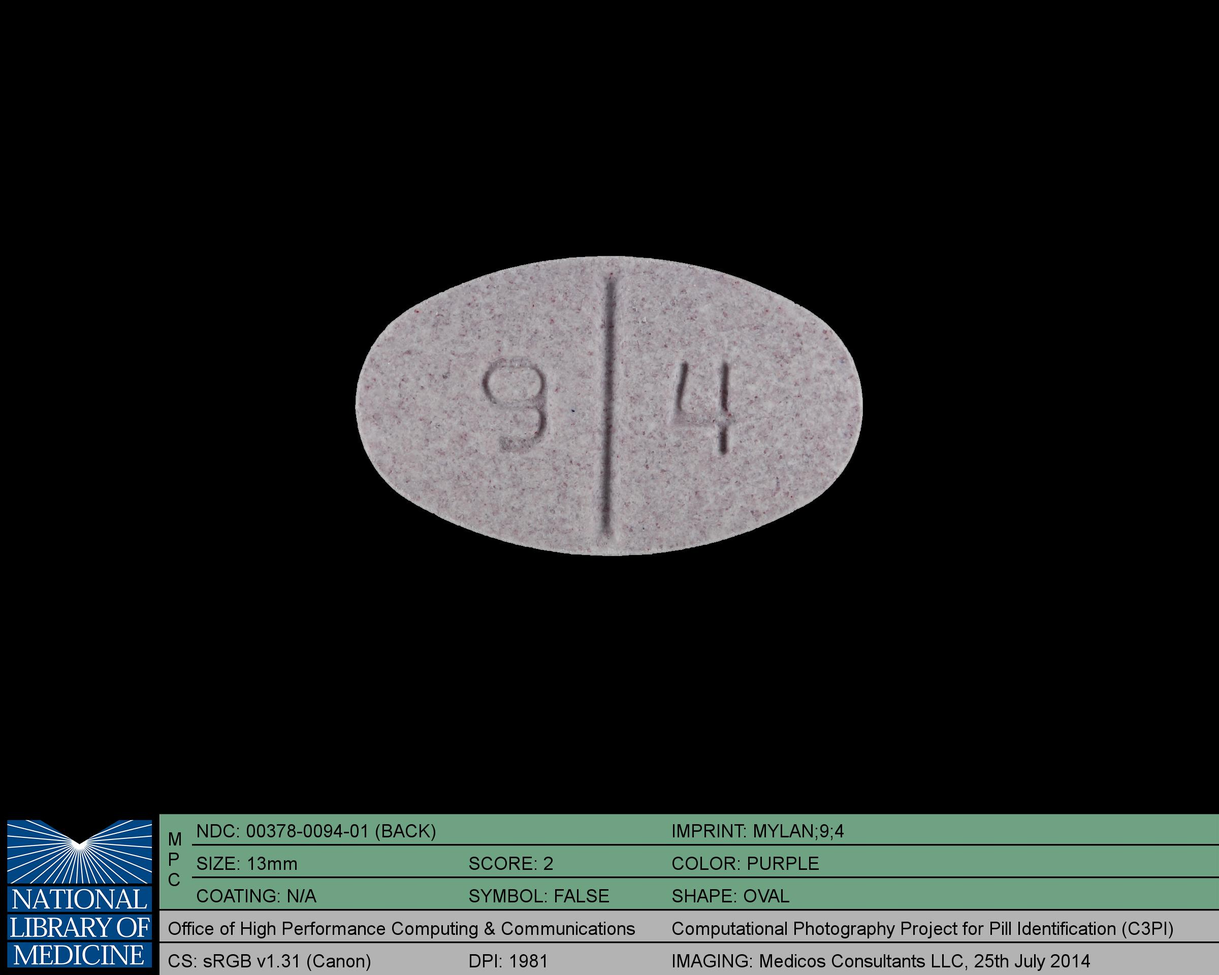Pill: (342, 244, 875, 564)
